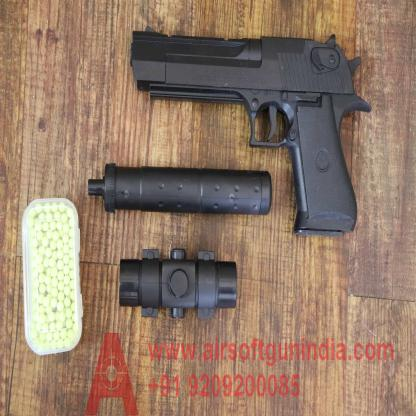handgun: (124, 26, 386, 278)
